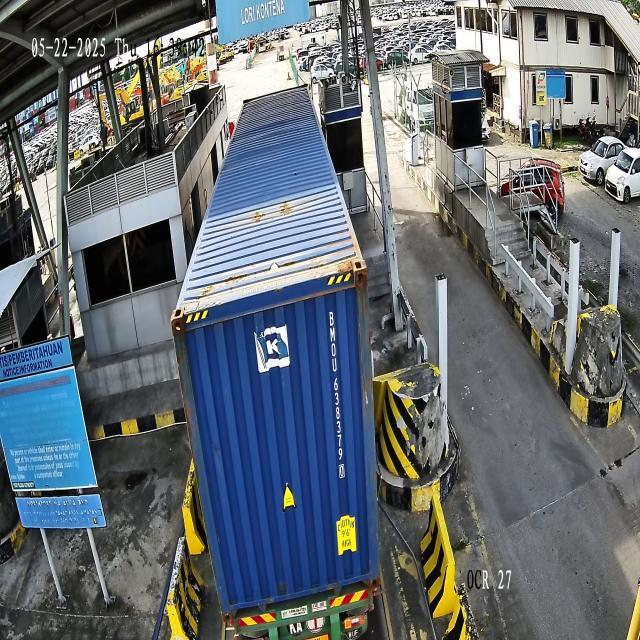container_number: (325, 310, 350, 483)
